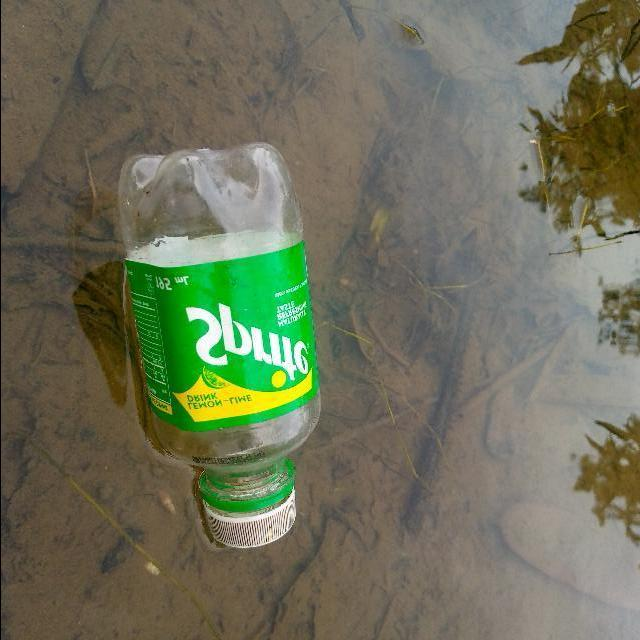Bottle: (104, 134, 328, 558)
